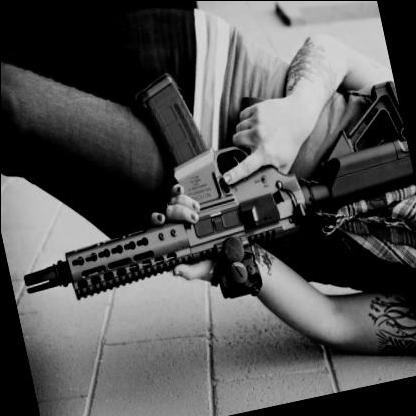rifle: (0, 52, 416, 317)
